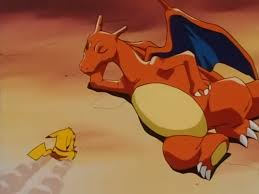charizard: (79, 5, 259, 184)
pikachu: (33, 126, 78, 164)
